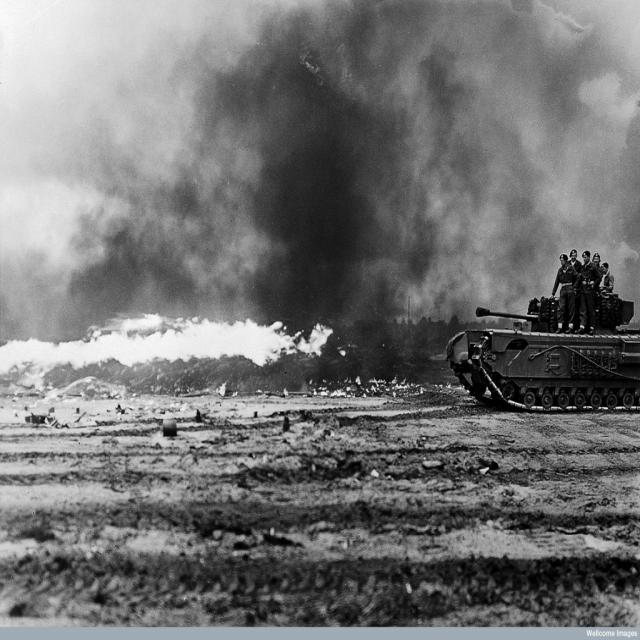tank: (445, 291, 639, 410)
